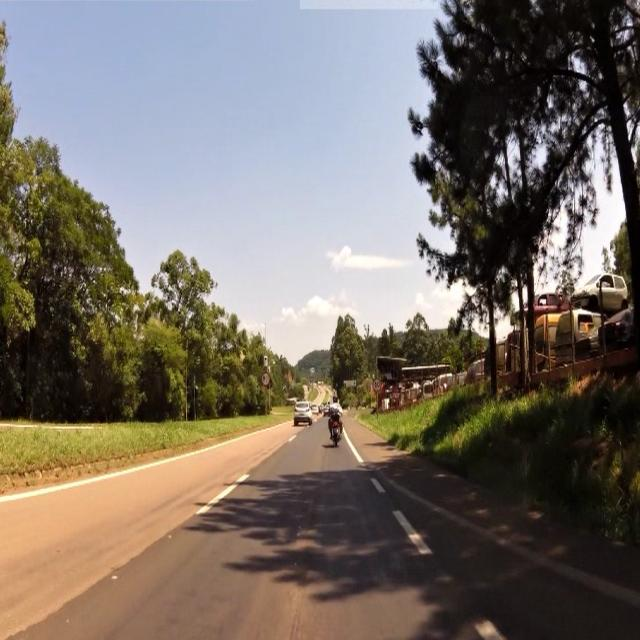R-19: (262, 374, 273, 386), (373, 378, 381, 392)
